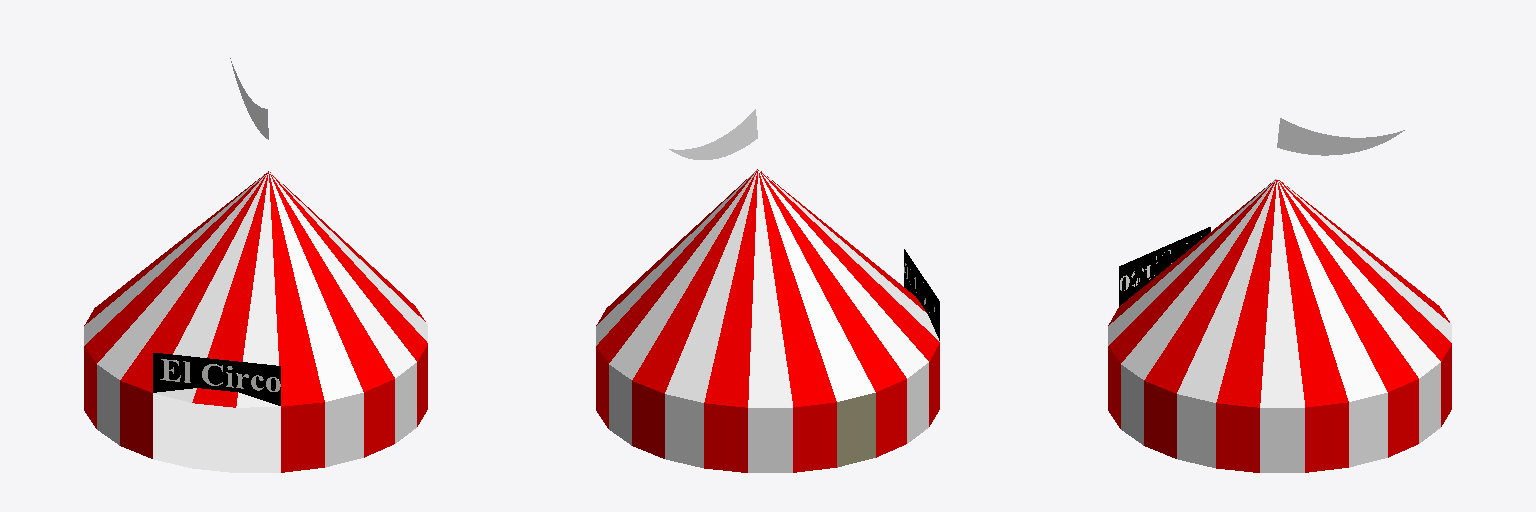
File: carpa.obj
The picture shows the model from 3 angles: view 1: azimuth 30°, elevation 25°; view 2: azimuth 150°, elevation 25°; view 3: azimuth 270°, elevation 25°; orthographic projection.
Visible parts, largest first — view 1: carpa_MOBILIARIO_DINOPARQUE.001; view 2: carpa_MOBILIARIO_DINOPARQUE.001; view 3: carpa_MOBILIARIO_DINOPARQUE.001.
Boxes of the visible parts, box(x1,y1,x2,y2) form: carpa_MOBILIARIO_DINOPARQUE.001: box(84, 58, 427, 472); carpa_MOBILIARIO_DINOPARQUE.001: box(596, 109, 939, 472); carpa_MOBILIARIO_DINOPARQUE.001: box(1108, 118, 1451, 472).
Bounding box in the file's own units: 162 × 150 × 162.